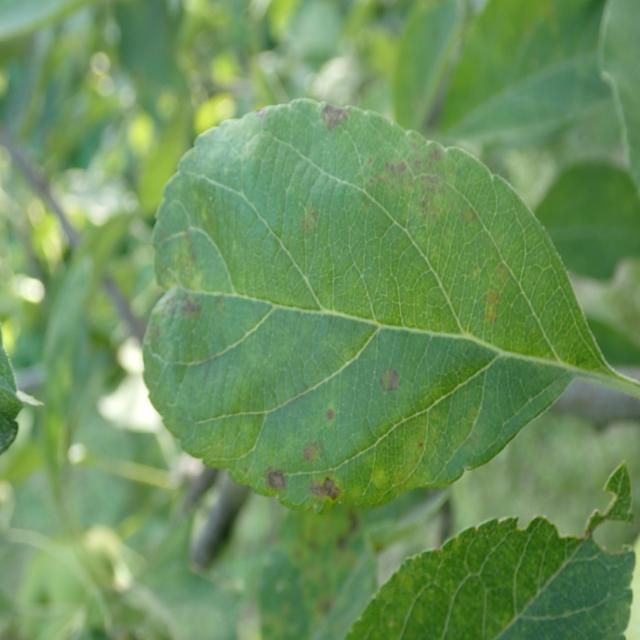scab: (144, 90, 609, 536), (216, 512, 445, 636)
